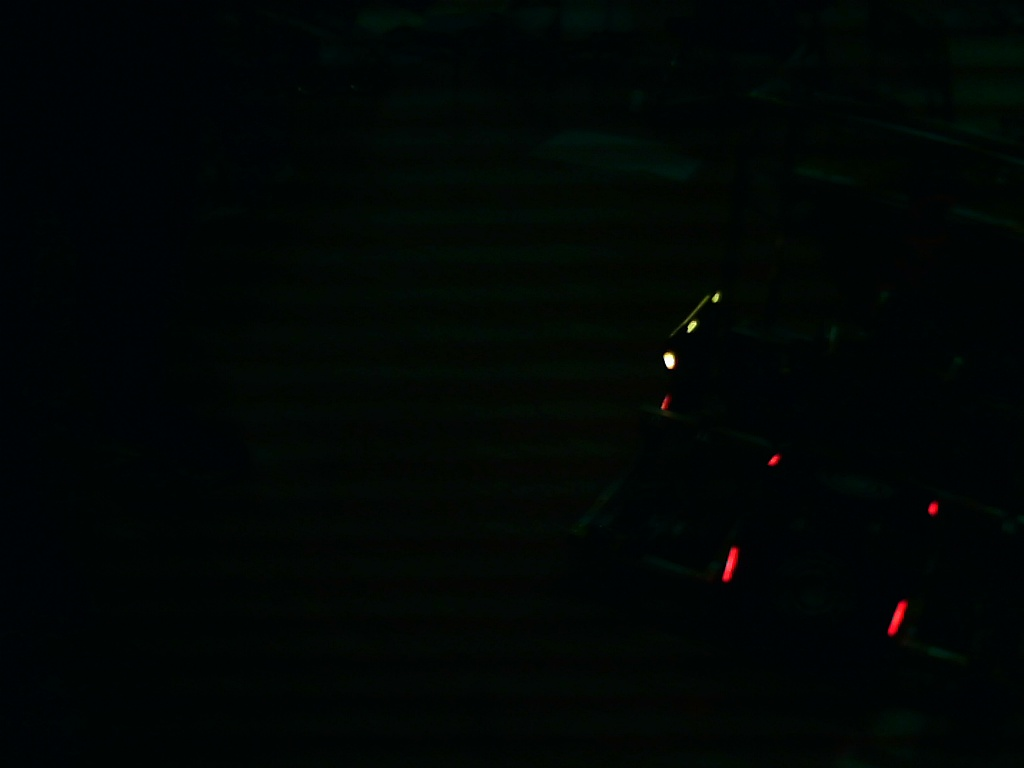lamp: (885, 598, 910, 638), (722, 545, 741, 584)
